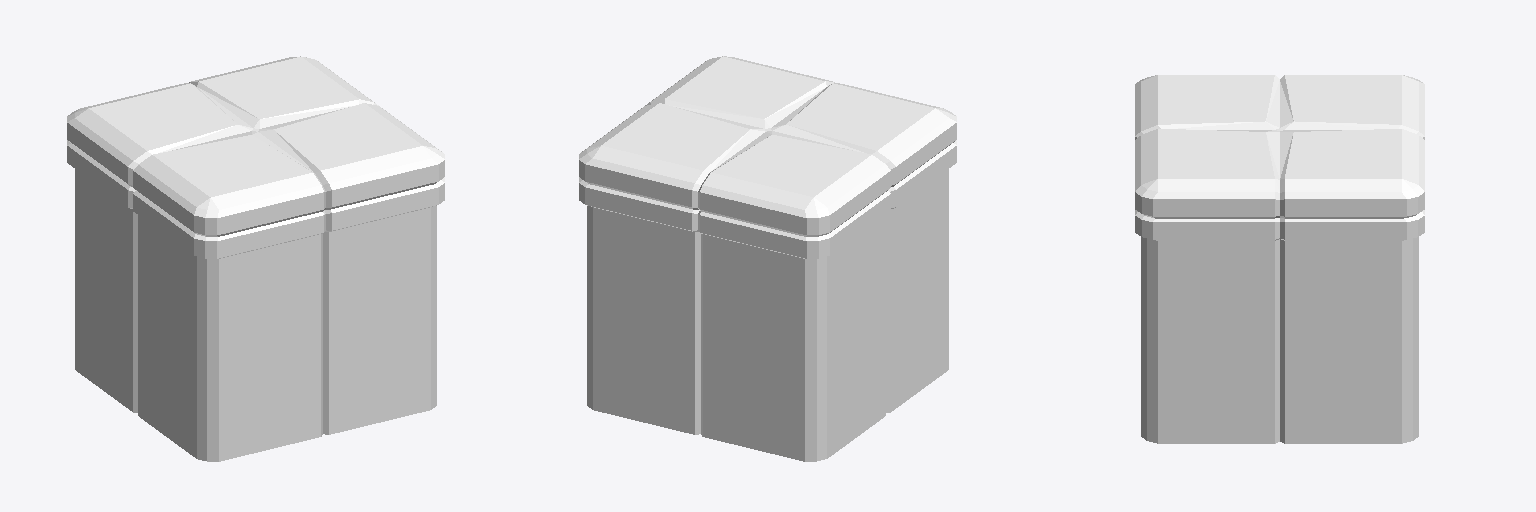
Rendered from Border.obj.
The picture shows the model from 3 angles: view 1: azimuth 30°, elevation 25°; view 2: azimuth 150°, elevation 25°; view 3: azimuth 270°, elevation 25°; orthographic projection.
Visible parts, largest first — view 1: SM_Bld_Block_01_Mesh; view 2: SM_Bld_Block_01_Mesh; view 3: SM_Bld_Block_01_Mesh.
Boxes of the visible parts, x1=… form: SM_Bld_Block_01_Mesh: x1=67, y1=56, x2=444, y2=461; SM_Bld_Block_01_Mesh: x1=579, y1=56, x2=956, y2=461; SM_Bld_Block_01_Mesh: x1=1135, y1=75, x2=1424, y2=443.
Bounding box in the file's own units: 1.83 × 1.8 × 1.83.